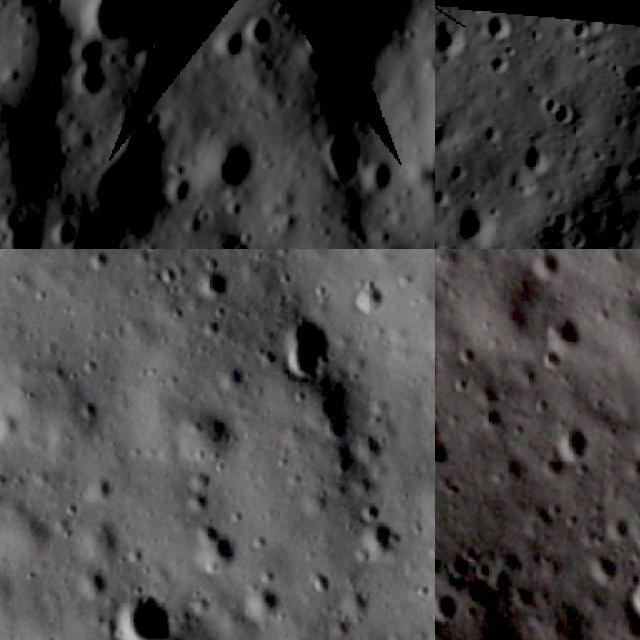crater: (74, 96, 209, 248), (296, 106, 396, 212), (70, 0, 223, 67), (55, 28, 136, 116), (270, 306, 336, 388), (303, 379, 374, 448), (112, 585, 183, 640), (232, 0, 293, 60), (0, 197, 66, 249), (195, 519, 247, 581), (202, 15, 256, 68), (435, 404, 469, 484), (355, 507, 401, 566), (447, 197, 496, 248), (555, 418, 600, 473), (578, 538, 622, 594), (544, 313, 596, 359), (192, 258, 244, 302), (356, 277, 401, 320), (512, 129, 550, 178), (46, 209, 92, 249), (538, 87, 579, 126), (441, 542, 479, 584), (526, 249, 572, 283), (435, 333, 456, 406), (301, 564, 341, 601), (477, 6, 517, 40), (435, 15, 465, 60), (246, 583, 284, 616), (478, 42, 514, 74), (482, 401, 512, 437), (456, 340, 489, 372), (435, 584, 461, 624), (627, 563, 640, 637), (560, 15, 599, 39), (618, 49, 640, 89), (0, 411, 23, 445), (88, 249, 114, 276), (533, 235, 575, 249)
